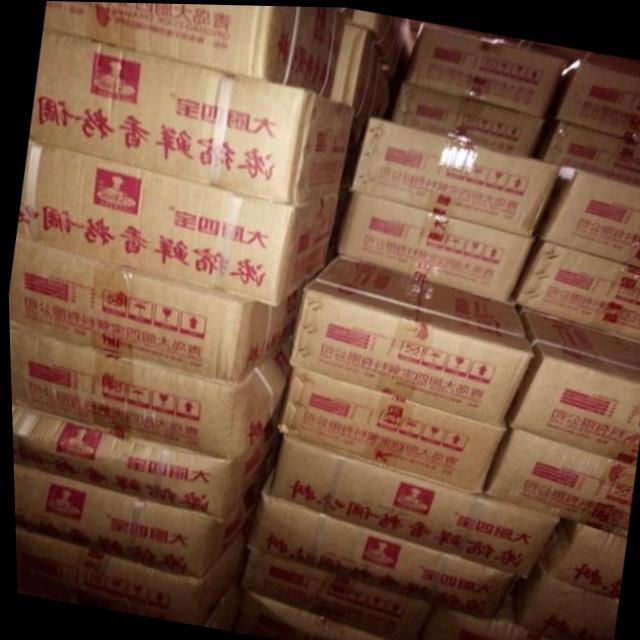box: (28, 27, 356, 203), (15, 138, 337, 305), (7, 237, 299, 382), (286, 254, 532, 424), (267, 434, 559, 577), (241, 472, 512, 619), (8, 323, 290, 459), (9, 403, 282, 520), (43, 1, 346, 97), (278, 364, 497, 493), (11, 464, 260, 577), (346, 115, 561, 235), (12, 528, 245, 626), (334, 189, 530, 300), (504, 309, 640, 465), (236, 547, 431, 640), (479, 425, 633, 536), (407, 24, 567, 116), (507, 236, 640, 340), (388, 79, 544, 154), (531, 164, 640, 266), (229, 588, 391, 640), (508, 561, 614, 640), (535, 516, 624, 596), (555, 57, 640, 140), (536, 118, 640, 185), (417, 592, 558, 640), (330, 22, 383, 112), (198, 574, 237, 631), (334, 6, 393, 37)
